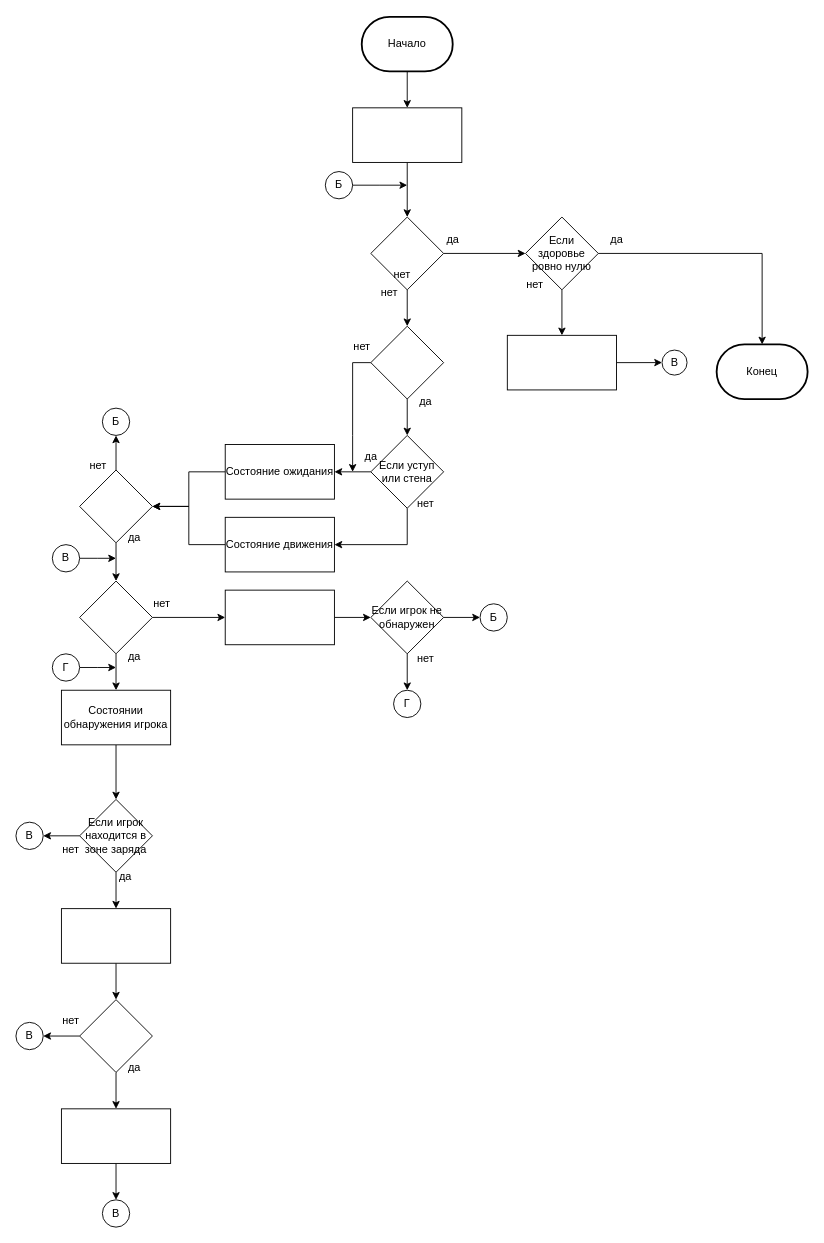
This 824x1243 diagram has some shape labels left out. The box of each missing label's shape, as (x1, y1, x2, y2) in pixels:
Если время ожидания истекло: (370, 325, 444, 399)
Если игрок в зоне для атаки: (79, 999, 152, 1072)
Если игрок обнаружен: (79, 580, 152, 654)
Если попадает в минимальный диапозон: (79, 469, 152, 543)
Если противник был атакован: (370, 216, 444, 290)
Инициализация противника: (352, 107, 462, 162)
Состояние атаки на игрока: (61, 1108, 171, 1163)
Состояние заряда: (61, 908, 171, 963)
Состояние стана: (506, 334, 617, 390)
Сотояние поика игрока: (224, 589, 334, 645)
